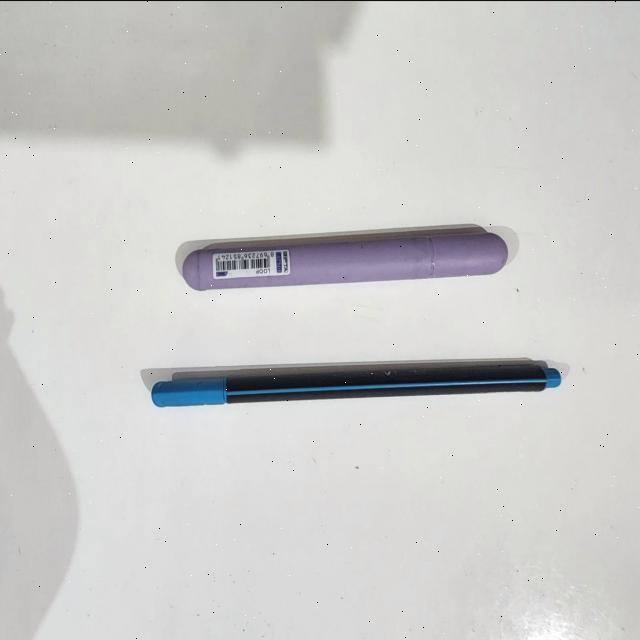kalem1: (150, 366, 562, 407)
kalem2: (182, 230, 508, 288)
